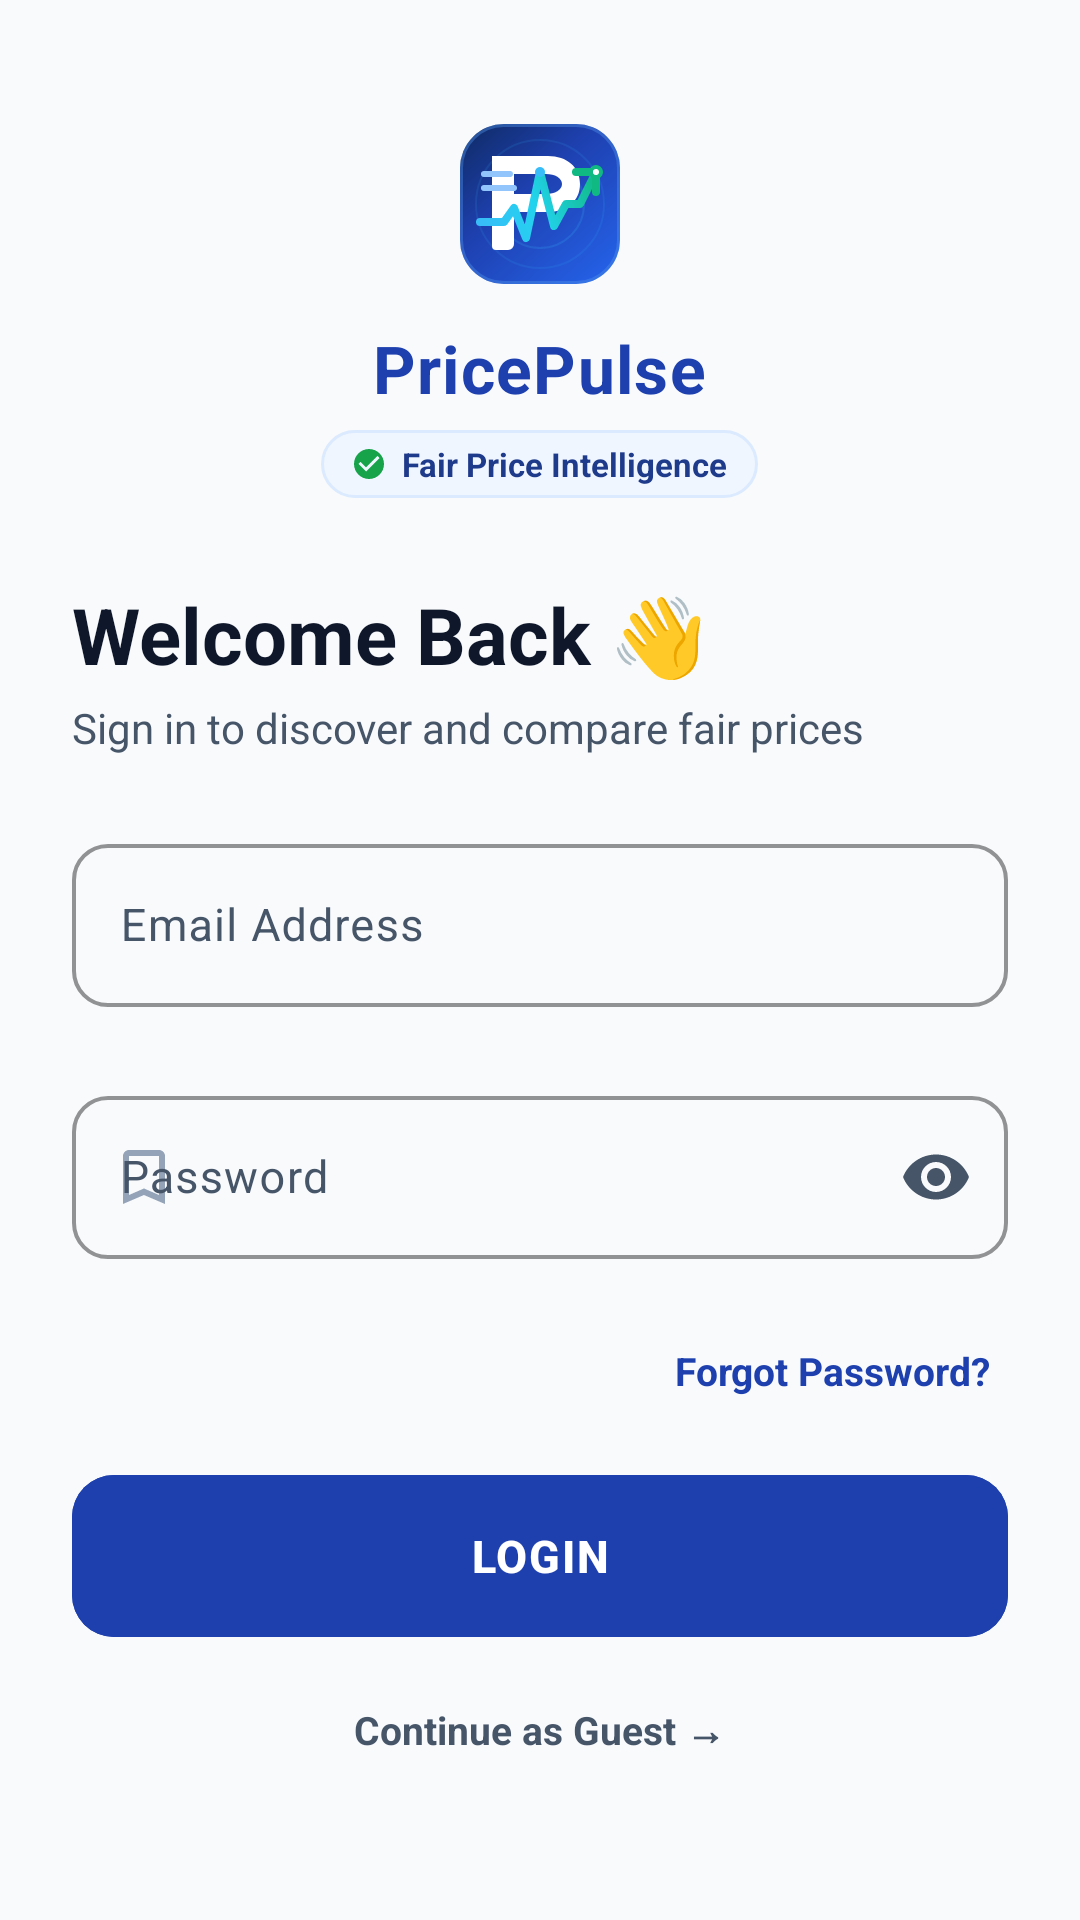

Screen size 1080w x 1920h. Icon name, then its center in pixels as (x=x, y=y):
verified badge: (x=369, y=464)
